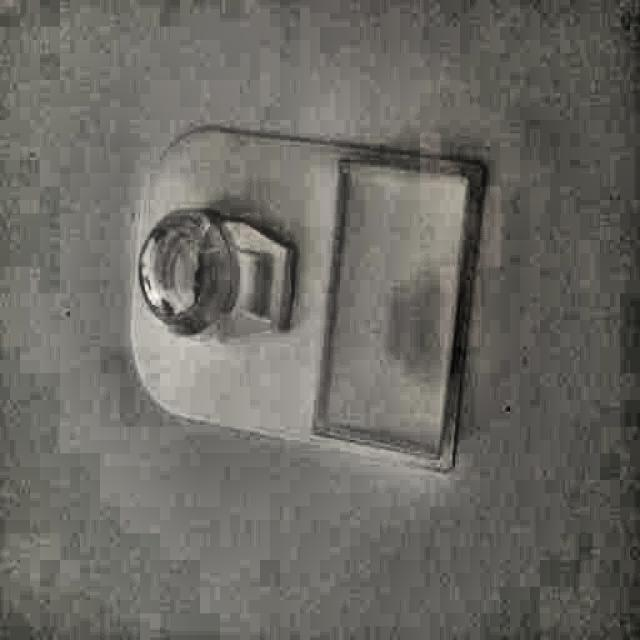plastic: (130, 126, 481, 477)
